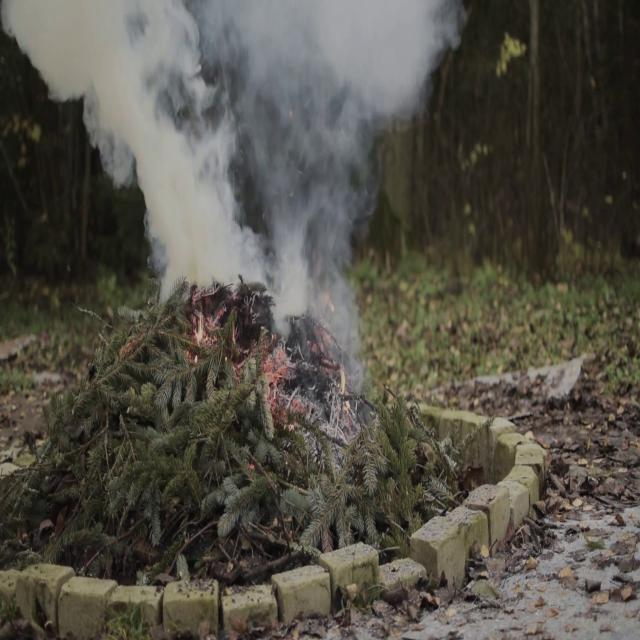Smoke: (253, 0, 439, 382), (58, 0, 270, 303)
